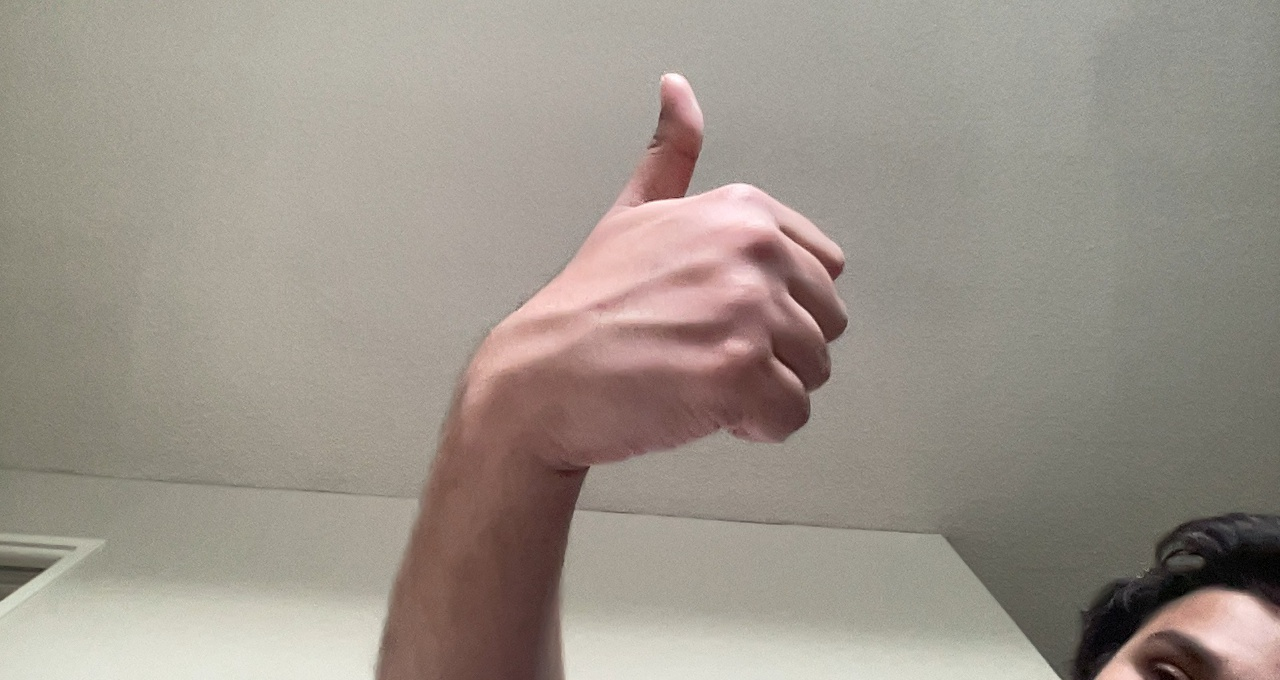thumbsup: (523, 65, 849, 446)
